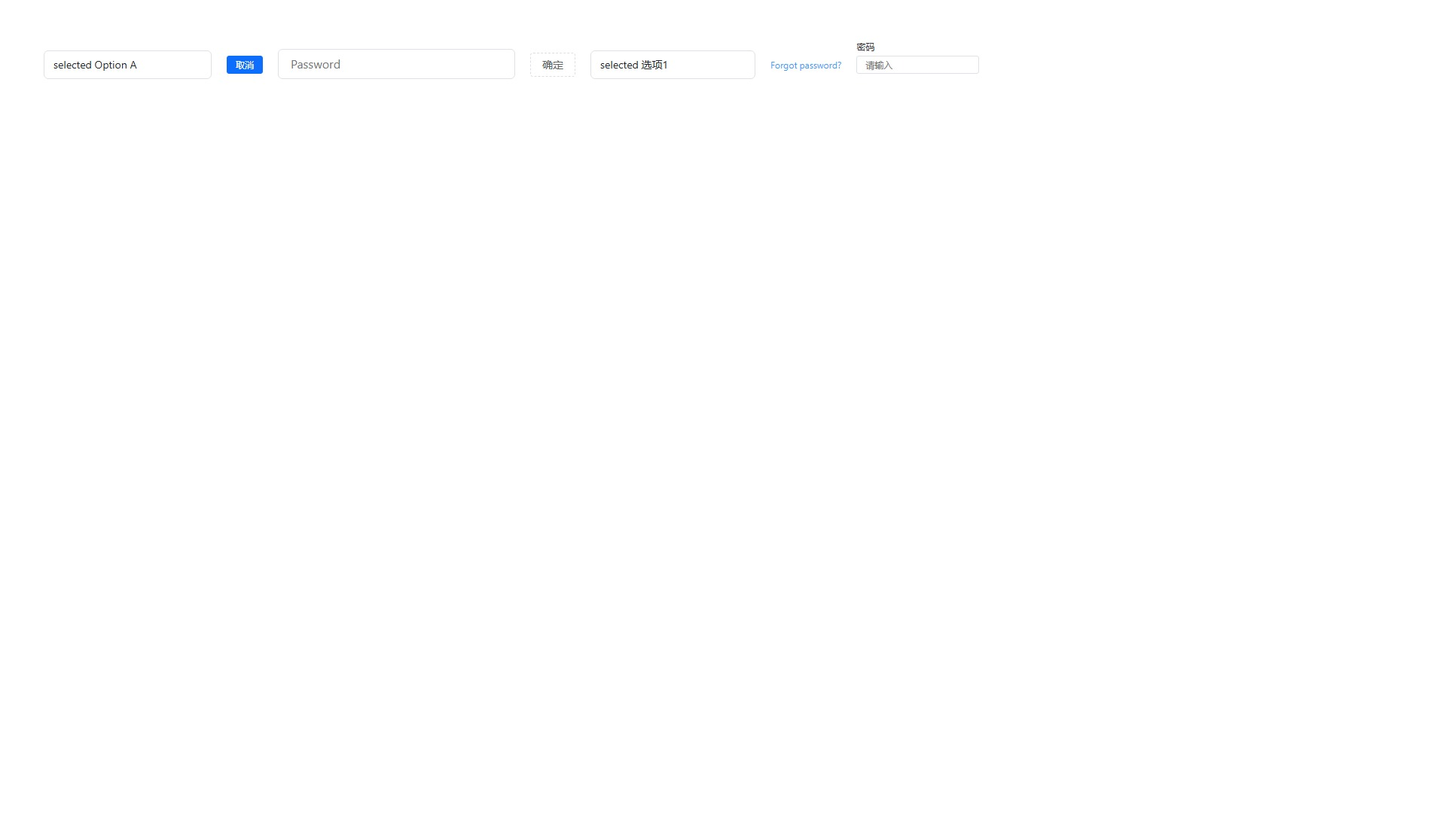button: (530, 53, 575, 77), (227, 56, 263, 74)
input: (278, 49, 515, 79), (856, 56, 979, 74)
link: (770, 59, 841, 71)
select: (44, 50, 212, 79), (590, 50, 755, 79)
